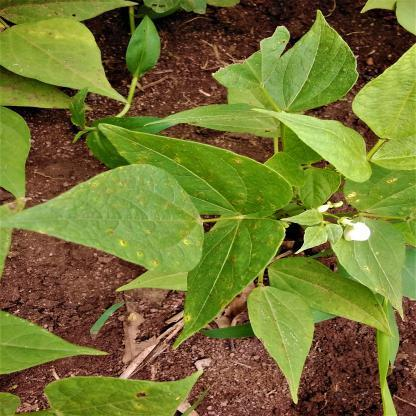Beans_Rust: (18, 170, 210, 266), (100, 124, 276, 213), (179, 223, 288, 325), (0, 13, 114, 96), (50, 367, 204, 416), (336, 214, 404, 293), (340, 156, 412, 219)
